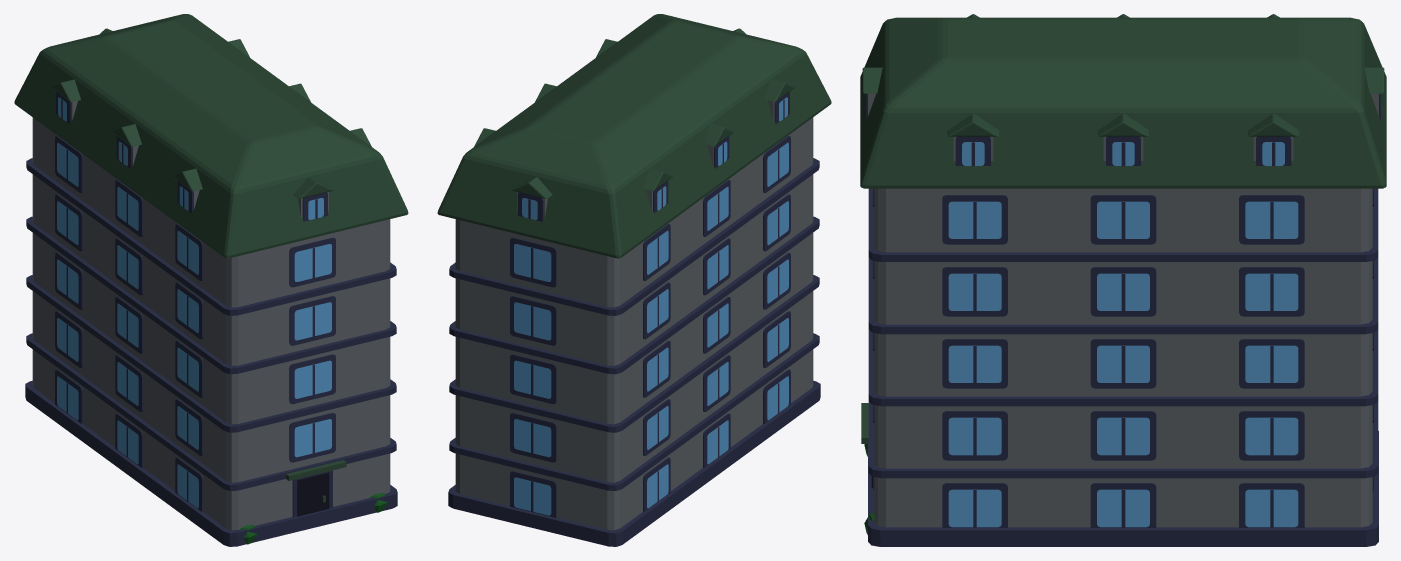
The model's file is house-1x2-5f-mansard-d.glb.
3 renders of one model, left to right at view 1: azimuth 30°, elevation 25°; view 2: azimuth 150°, elevation 25°; view 3: azimuth 270°, elevation 25°, orthographic. The views are drawn at different scales.
Parts seen in each view (by area): view 1: house-1x2-5f-mansard-d; view 2: house-1x2-5f-mansard-d; view 3: house-1x2-5f-mansard-d.
Boxes of the visible parts, <box> form: house-1x2-5f-mansard-d: <box>14,14,408,546</box>; house-1x2-5f-mansard-d: <box>437,14,831,546</box>; house-1x2-5f-mansard-d: <box>860,14,1386,546</box>.
Size of the model in its own units: 0.9876 by 1.9 by 1.99.
Materials: 1 (1 with a texture image).
